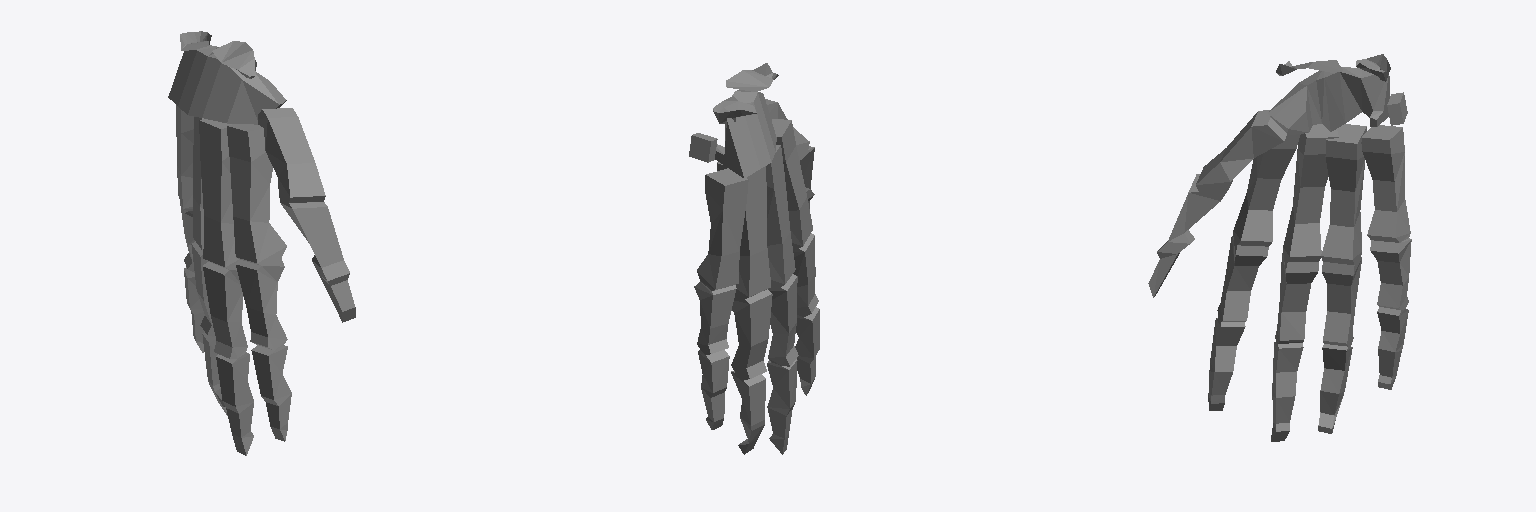
The model's file is rightwristhand.obj.
3 renders of one model, left to right at view 1: azimuth 30°, elevation 25°; view 2: azimuth 150°, elevation 25°; view 3: azimuth 270°, elevation 25°, orthographic.
Parts seen in each view (by area): view 1: sub01; view 2: sub01; view 3: sub01.
Boxes of the visible parts, <box> form: sub01: <box>168,31,355,455</box>; sub01: <box>689,63,819,454</box>; sub01: <box>1148,54,1411,441</box>.
Bounding box in the file's own units: 1.6 × 8.14 × 5.02.